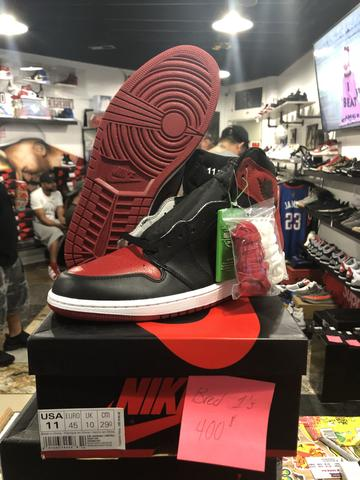Air Jordan 1 Bred: (45, 140, 305, 327)
